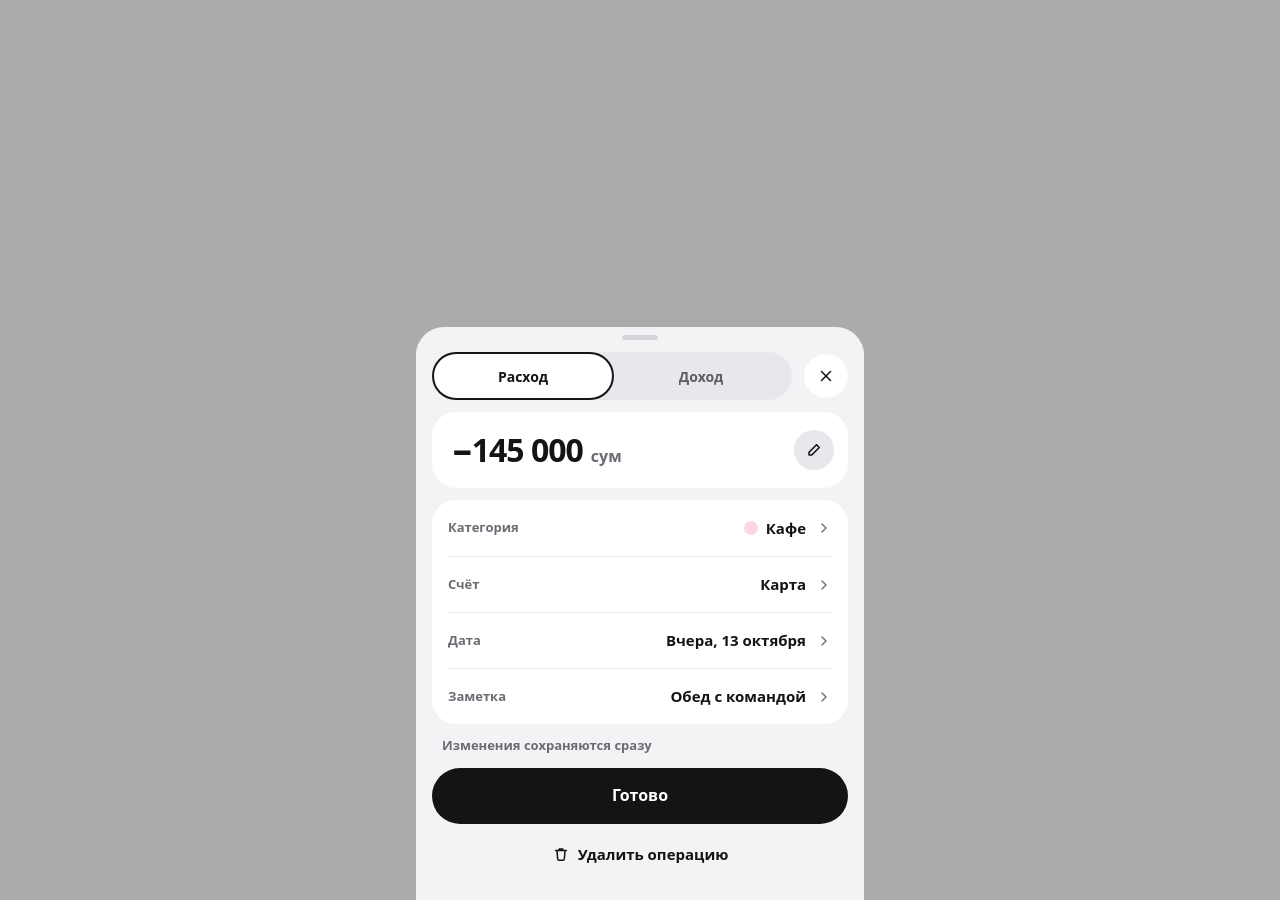
every change is saved at once › a change the server refused goes back, and the sheet says so
Step 1. Click the button "Дата Вчера, 13 октября" → (464, 640), box [448,612,832,668]
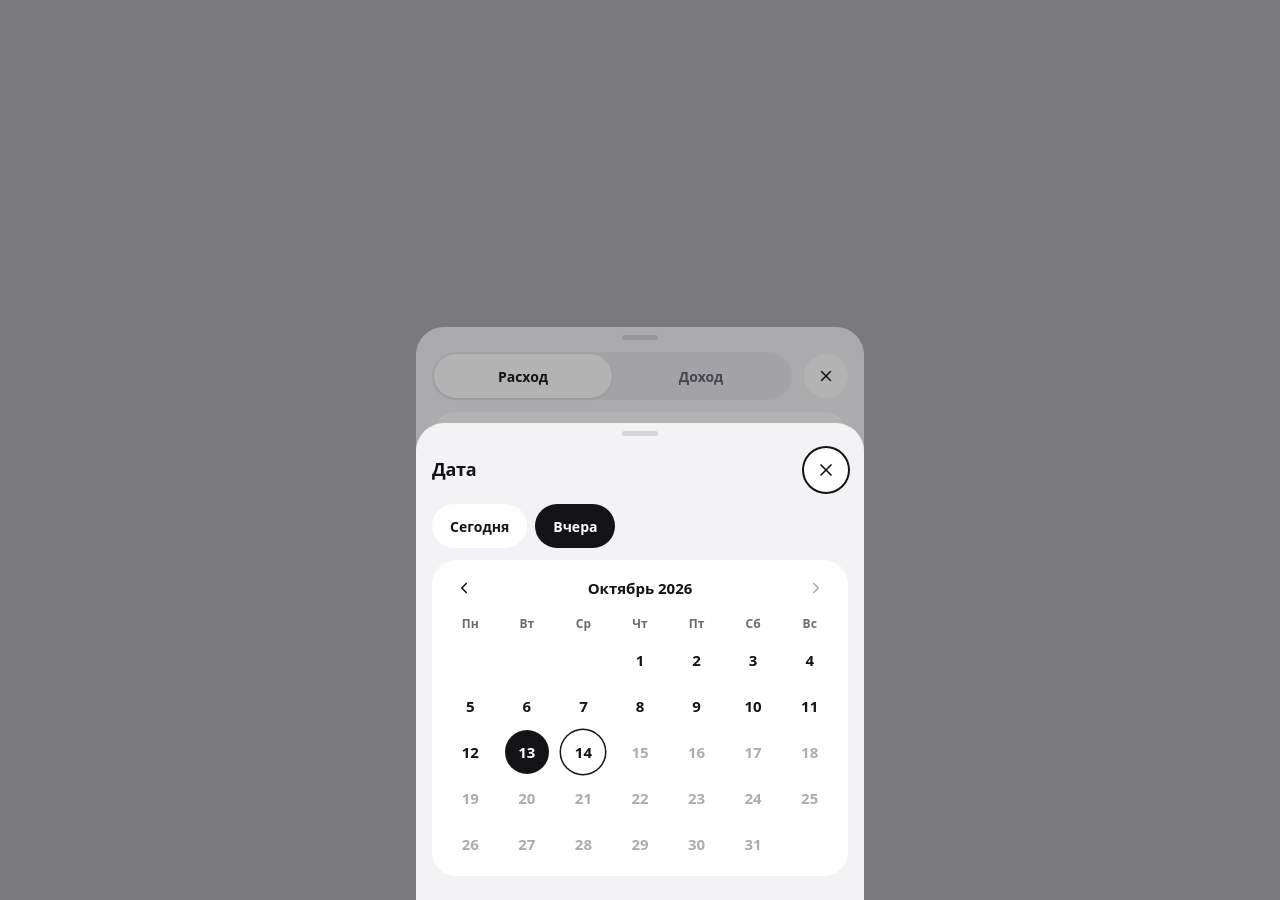
Step 2. Click the button "Сегодня" → (480, 526), box [432,504,527,548]
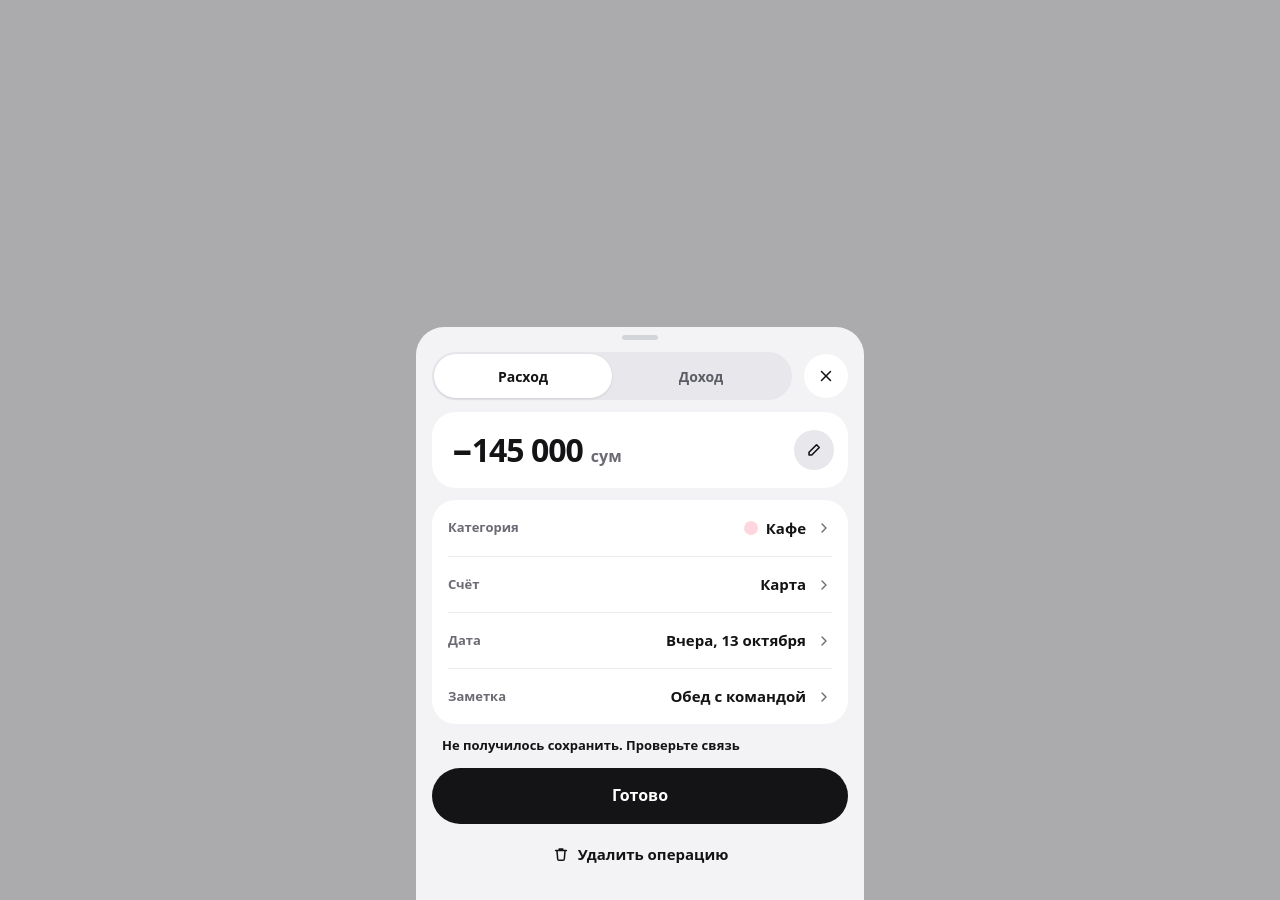
Expected: the button "Дата Вчера, 13 октября" is shown, [448,612,832,668]
Expected: the text "Не получилось сохранить" is shown, [442,736,740,754]
